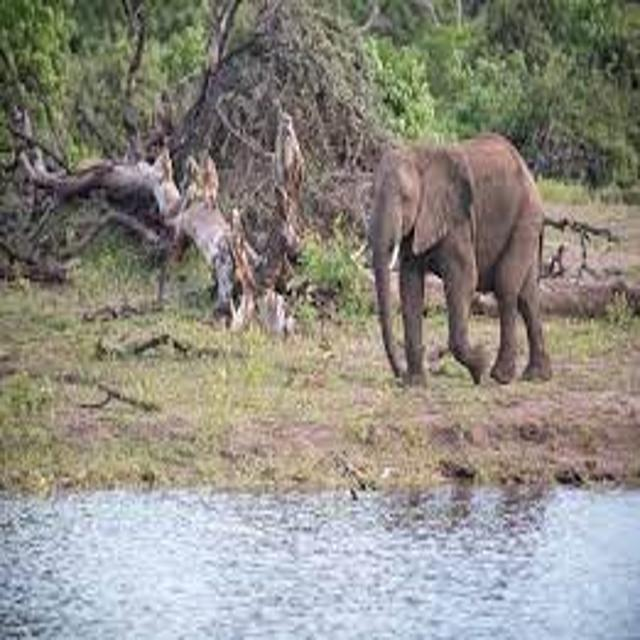rhino: (323, 114, 604, 411)
